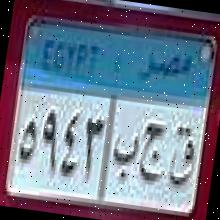3: (77, 109, 108, 183)
4: (57, 108, 85, 180)
5: (13, 116, 42, 170)
9: (35, 106, 65, 175)
baa: (106, 128, 142, 184)
jeem: (135, 116, 170, 190)
qaaf: (162, 118, 200, 192)
